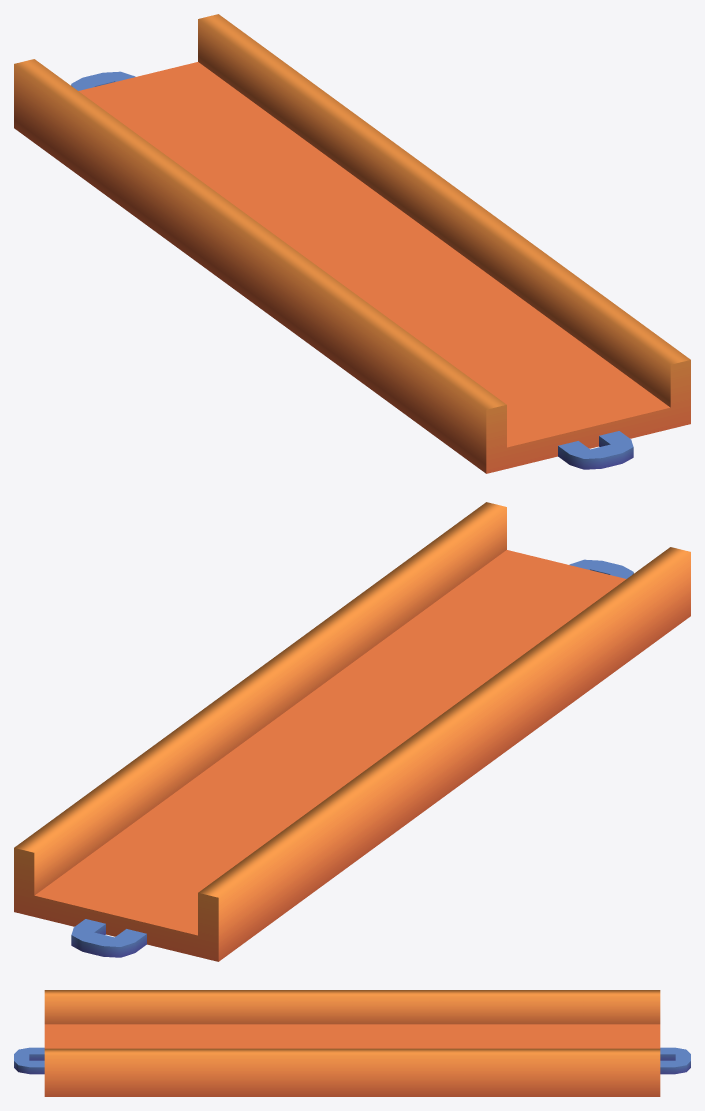
File: track-narrow-straight.obj
The picture shows the model from 3 angles, top to bottom: view 1: azimuth 30°, elevation 25°; view 2: azimuth 150°, elevation 25°; view 3: azimuth 270°, elevation 25°; orthographic projection. The views are drawn at different scales.
Visible parts, largest first — view 1: track-narrow-straight; view 2: track-narrow-straight; view 3: track-narrow-straight.
Part boxes in pixels (x1,y1,x2,y2): track-narrow-straight: [14, 14, 690, 473]; track-narrow-straight: [14, 502, 690, 961]; track-narrow-straight: [14, 990, 690, 1096].
Size of the model in its own units: 1 by 0.3 by 4.4.
Materials: 1 (1 with a texture image).
